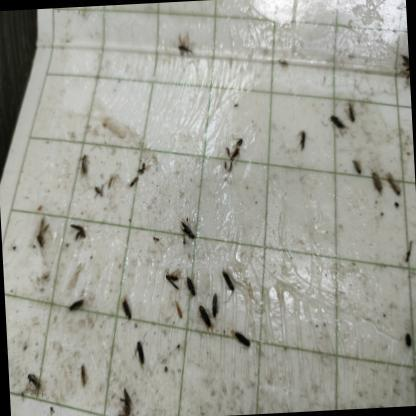prays_oleae: (230, 322, 260, 357), (196, 299, 218, 337), (33, 219, 52, 260), (228, 138, 250, 172), (20, 372, 43, 400), (116, 382, 136, 414), (327, 108, 348, 137), (368, 162, 384, 200), (116, 296, 136, 325), (382, 166, 400, 198), (131, 336, 150, 366), (161, 265, 180, 290), (69, 221, 88, 245), (348, 152, 366, 177), (78, 362, 90, 398), (64, 296, 86, 315), (220, 271, 236, 296), (77, 152, 90, 182), (180, 218, 196, 242), (206, 288, 220, 314), (185, 272, 198, 300), (297, 126, 308, 157), (173, 298, 184, 326)
